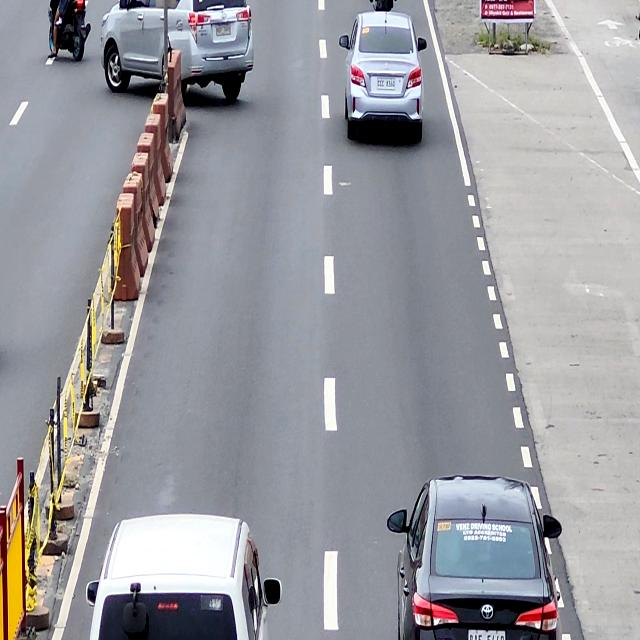Car: (388, 478, 564, 640), (86, 514, 280, 640), (99, 0, 255, 97), (339, 12, 426, 145)
License-Plate: (376, 77, 396, 90), (214, 22, 232, 36)
